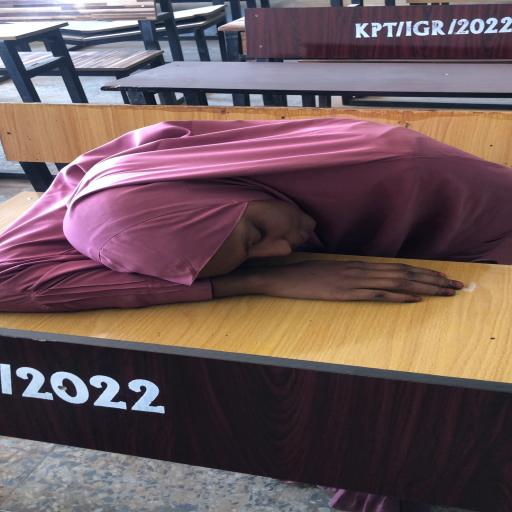Sleeping: (0, 48, 511, 336), (0, 90, 510, 344), (0, 115, 511, 313)
